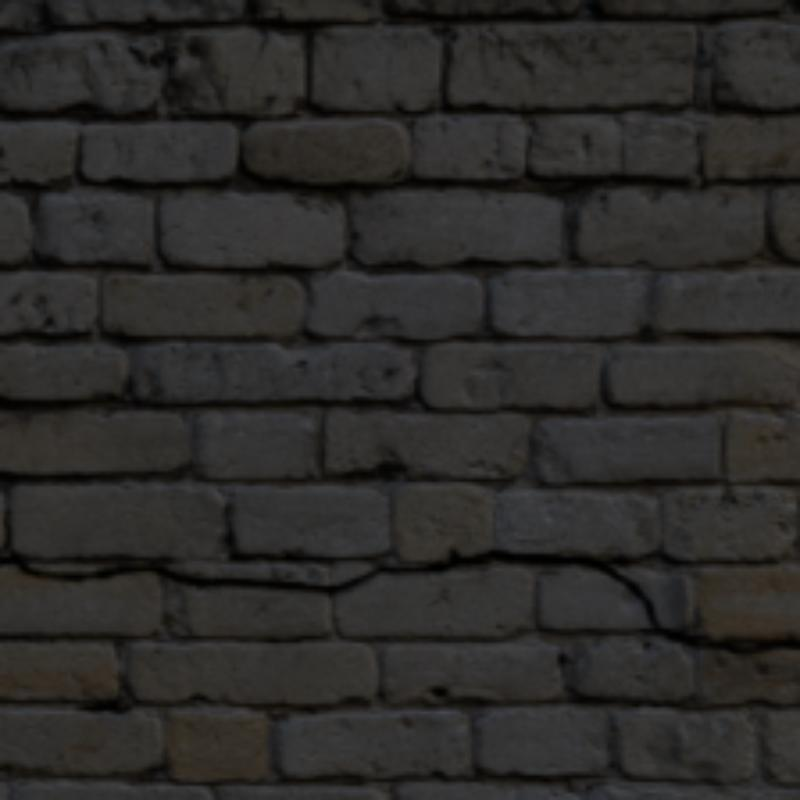pothole: (0, 550, 796, 654)
